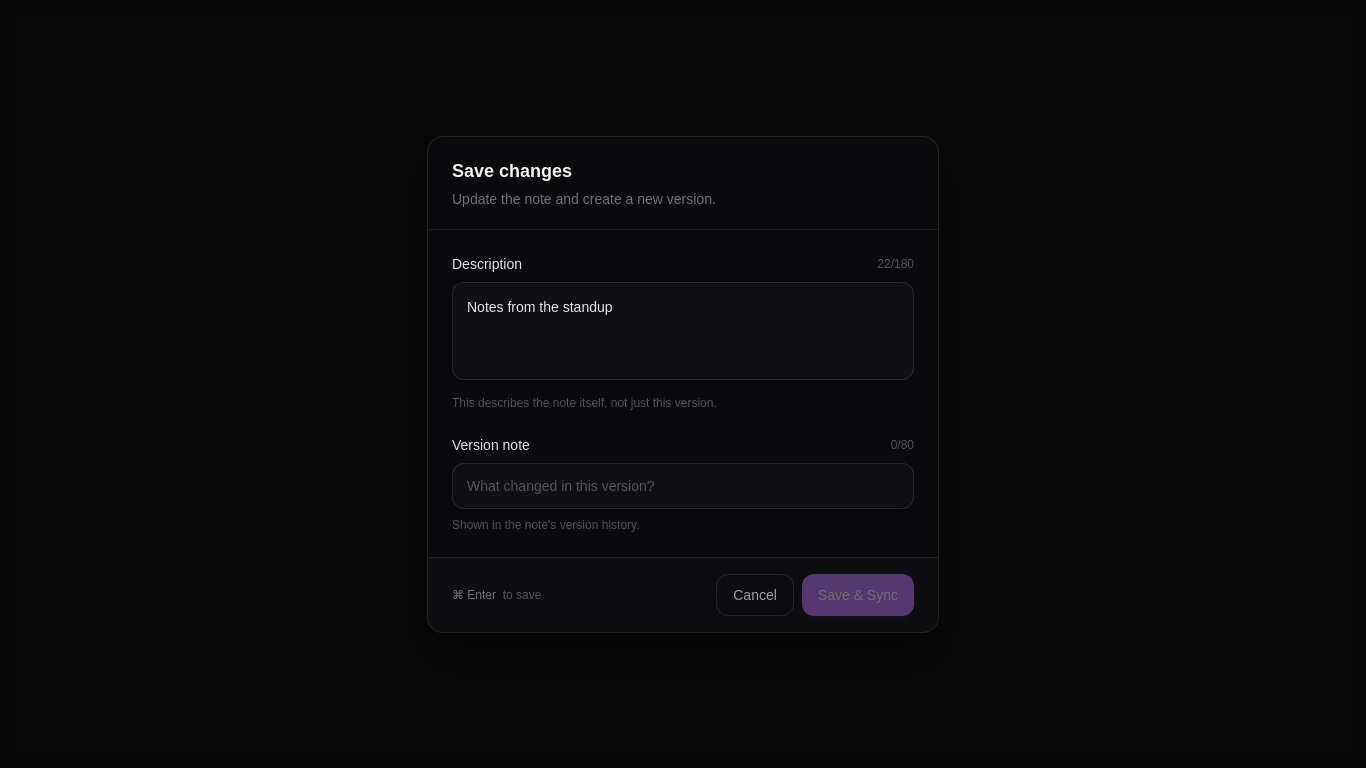
Test case: UpdateNoteDialog › enables Save & Sync when both fields are valid
Replace the text in the text box labelled "Description" with "Updated description" at coordinates (683, 330), box [452,282,914,380]
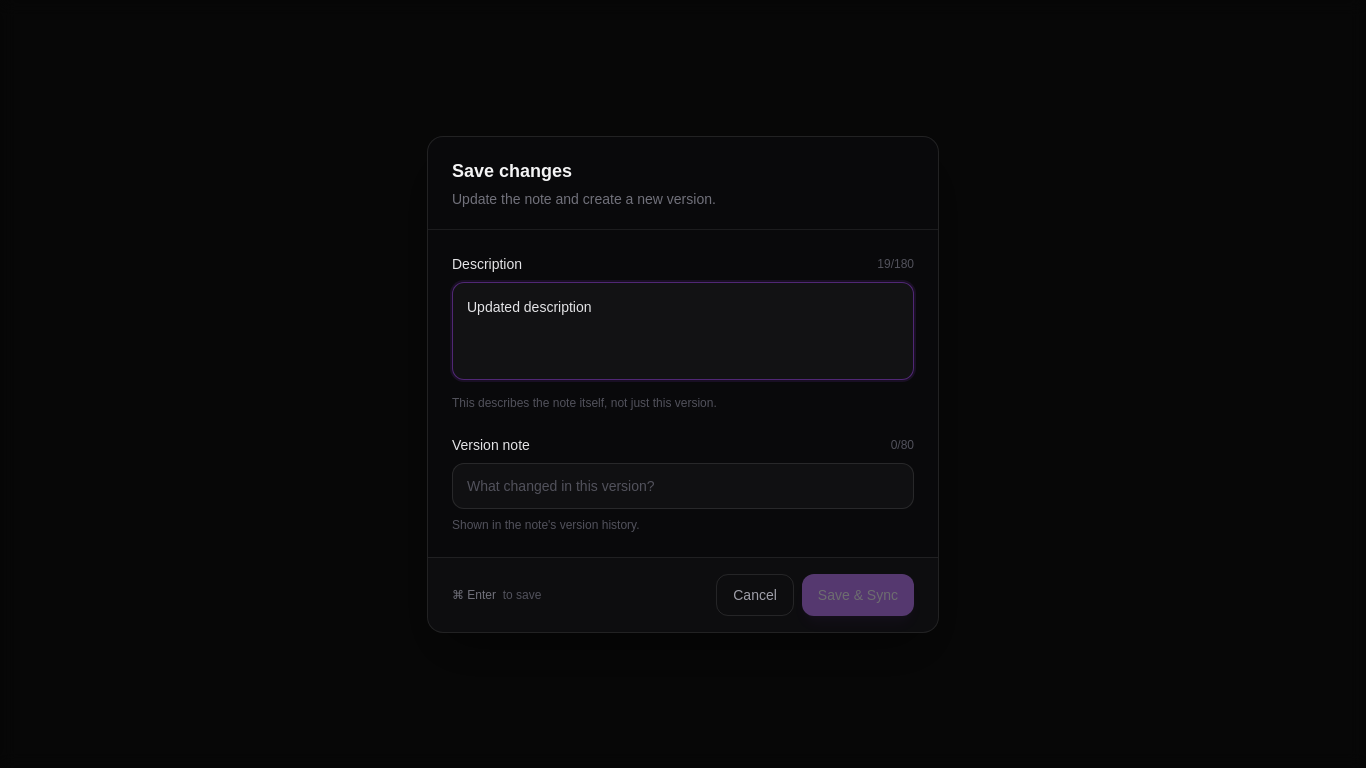
Type "Updated the content" into the field labelled "Version note" at coordinates (683, 486), box [452,462,914,508]
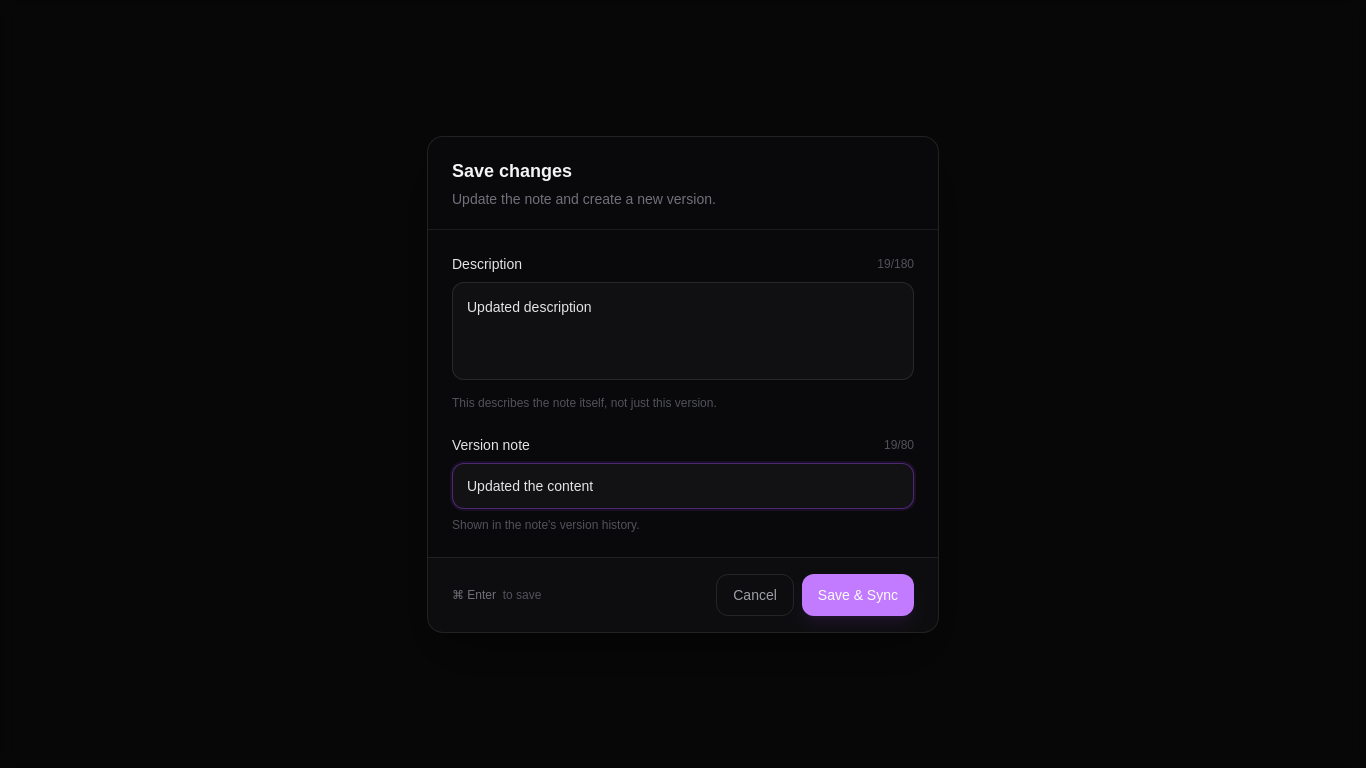
Result: the button "Save & Sync" is enabled at [802,574,914,616]
